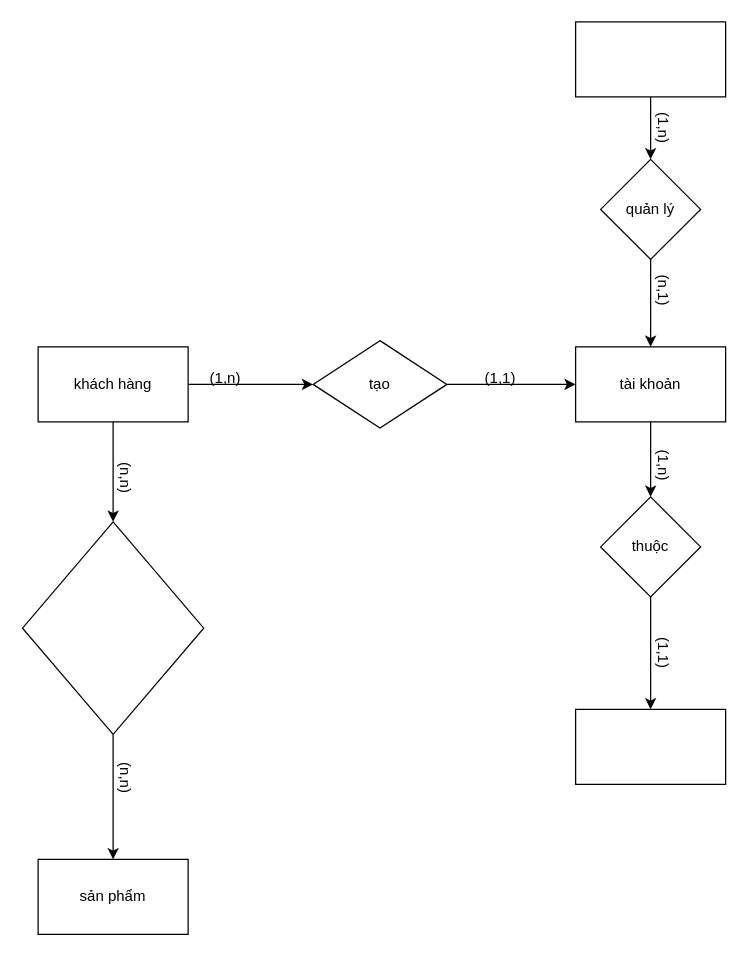
Some shapes in this 748 by 956 pixel diagram are drawn without their labels. Here are the shapes that lost their labels. From the top down, the centre of each, then its label:
At pixel 650 59: "quản trị viên".
At pixel 112 627: "mua,yêu thích,thêm vào giỏ hàng,đánh giá".
At pixel 650 746: "đơn hàng".
